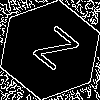Z: (25, 25, 80, 80)
